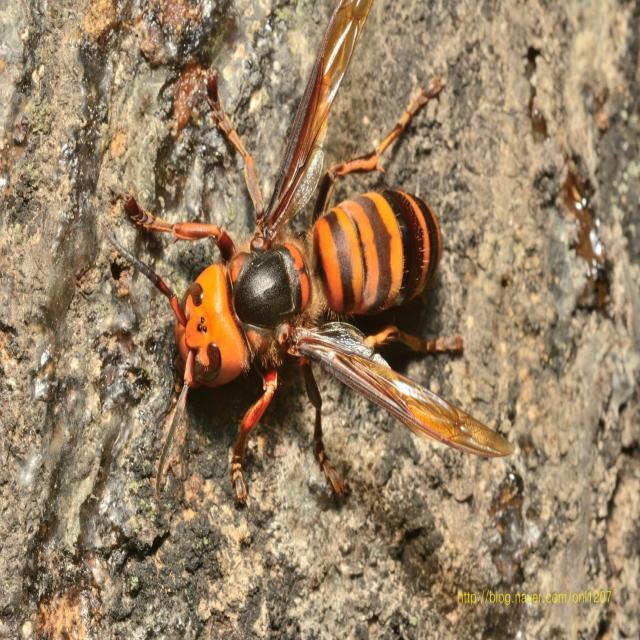Wasp: (128, 10, 510, 511)
